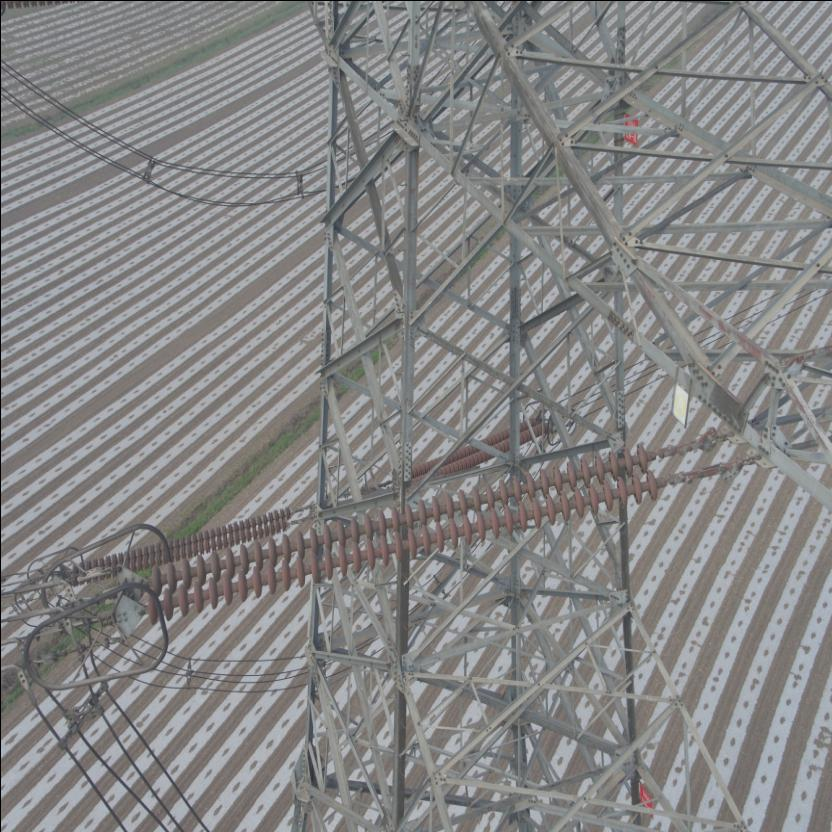insulator: (134, 439, 680, 624), (69, 498, 300, 584)
